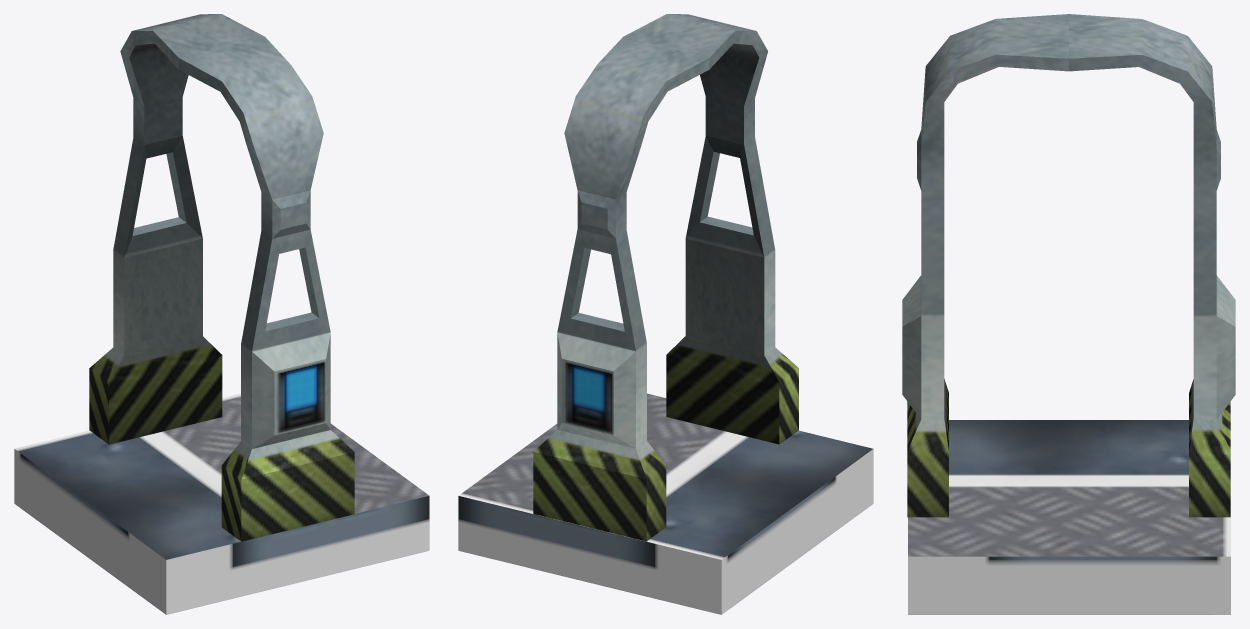
Rendered from ss_tile_door_ew.obj.
3 renders of one model, left to right at view 1: azimuth 30°, elevation 25°; view 2: azimuth 150°, elevation 25°; view 3: azimuth 270°, elevation 25°, orthographic. The views are drawn at different scales.
Visible parts, largest first — view 1: Object01; view 2: Object01; view 3: Object01.
Part boxes in pixels (box(x1,y1,x2,y2)): Object01: box(14, 14, 429, 614); Object01: box(458, 14, 873, 614); Object01: box(902, 14, 1235, 614).
Size of the model in its own units: 1 by 1.74 by 1.03.
